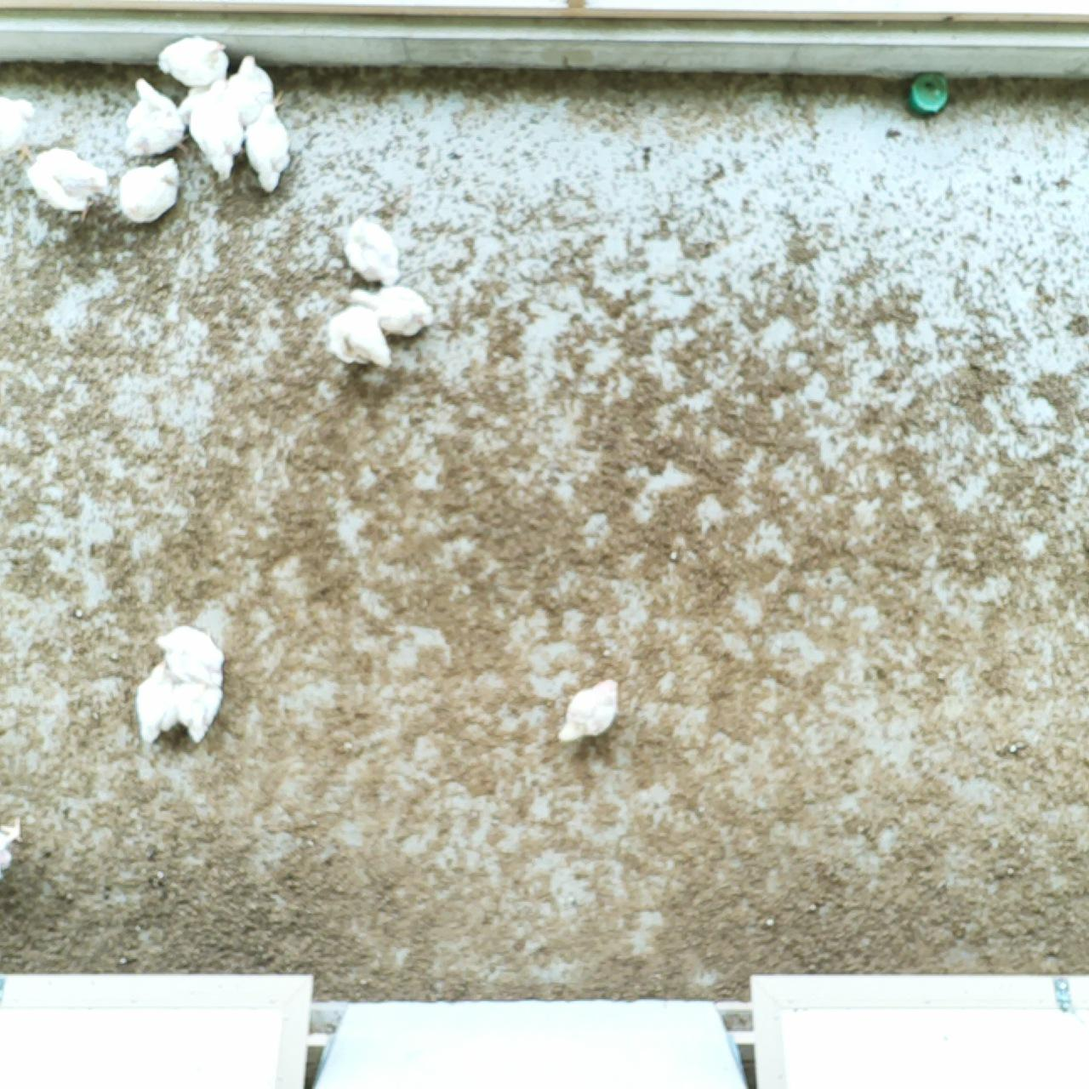chicken: (24, 146, 111, 218), (121, 75, 192, 154), (338, 286, 436, 343), (193, 74, 241, 182), (150, 623, 230, 682), (322, 304, 390, 373), (557, 673, 621, 745), (119, 153, 180, 228), (225, 56, 287, 128), (243, 105, 293, 194), (342, 211, 402, 285), (134, 657, 181, 747), (154, 33, 231, 87), (171, 673, 222, 744), (0, 91, 39, 160), (178, 72, 224, 129), (0, 815, 25, 875)
